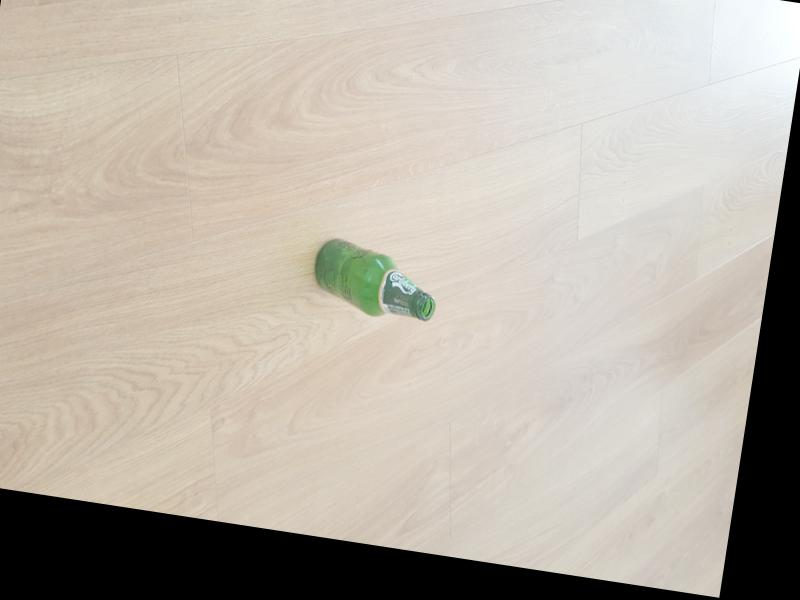Beer: (307, 234, 445, 326)
